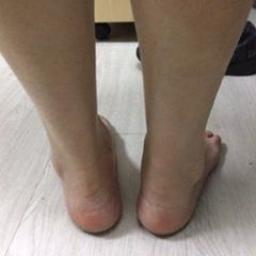Back View -Both Feet-: (22, 88, 232, 238)
